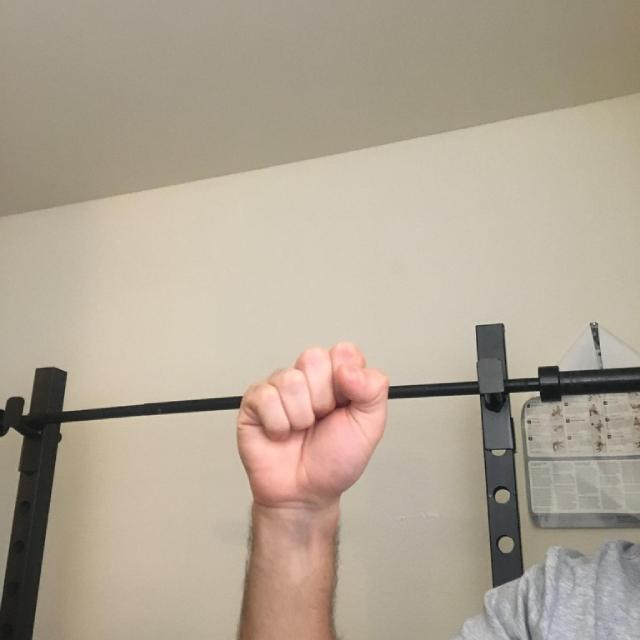E: (190, 288, 450, 542)
